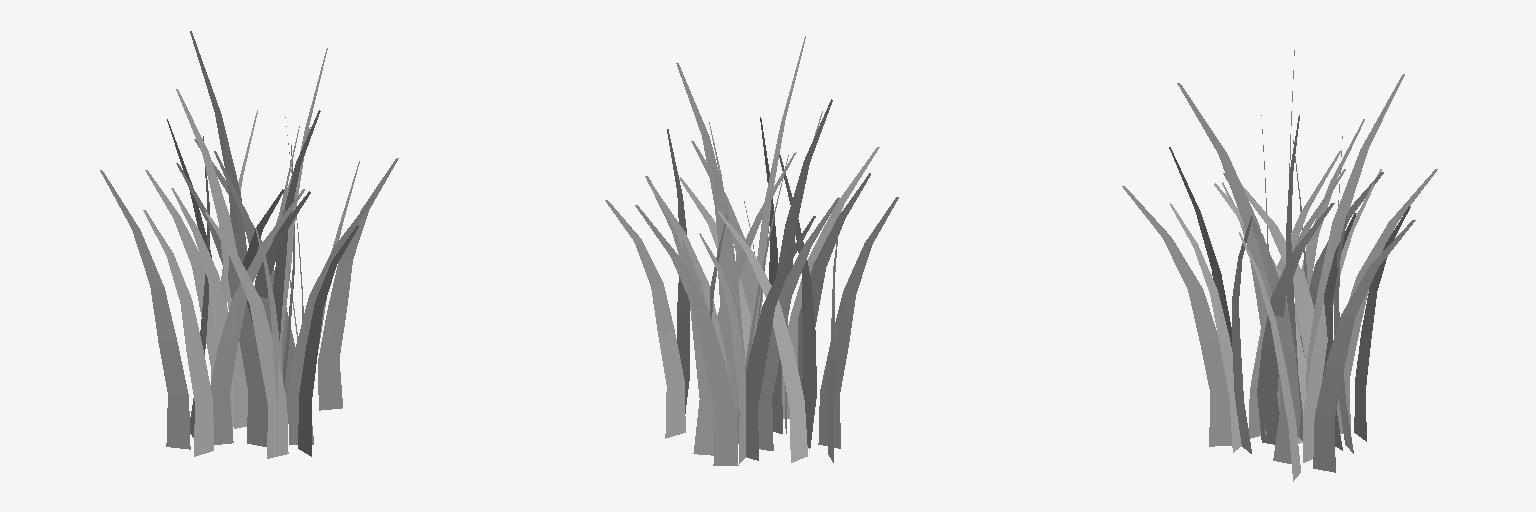
File: Tuft of grass.obj
3 views of the same model, side by side, from view 1: azimuth 30°, elevation 25°; view 2: azimuth 150°, elevation 25°; view 3: azimuth 270°, elevation 25° (orthographic).
Parts seen in each view (by area): view 1: Tuft_of_grass; view 2: Tuft_of_grass; view 3: Tuft_of_grass.
Part boxes in pixels (bbox=[...]): Tuft_of_grass: bbox=[100, 31, 398, 458]; Tuft_of_grass: bbox=[605, 36, 898, 465]; Tuft_of_grass: bbox=[1122, 50, 1437, 481].
Size of the model in its own units: 0.8928 by 1.26 by 1.